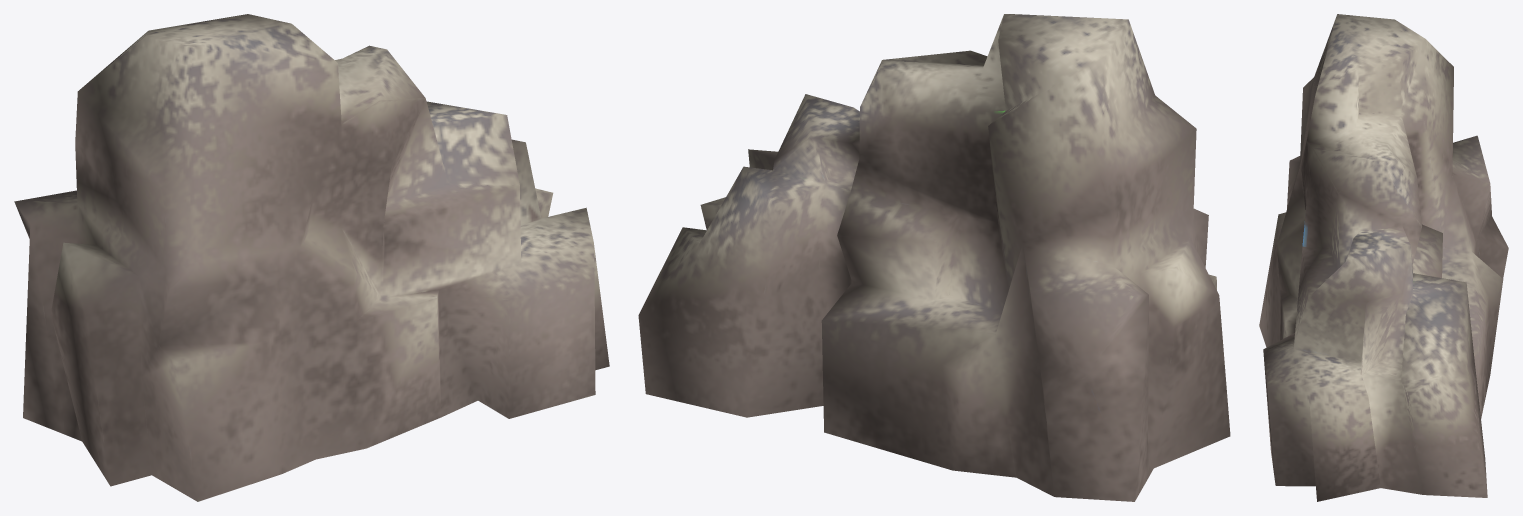
Rendered from Cliff-1.fbx.
3 views of the same model, side by side, from view 1: azimuth 30°, elevation 25°; view 2: azimuth 150°, elevation 25°; view 3: azimuth 270°, elevation 25° (orthographic). The views are drawn at different scales.
Parts seen in each view (by area): view 1: Cliff-1; view 2: Cliff-1; view 3: Cliff-1.
Part boxes in pixels (left/top/right/bottom): Cliff-1: left=14, top=14, right=609, bottom=501; Cliff-1: left=638, top=14, right=1230, bottom=501; Cliff-1: left=1259, top=14, right=1508, bottom=501.
Bounding box in the file's own units: 15.24 × 11.59 × 7.97.
Materials: 1 (1 with a texture image).
